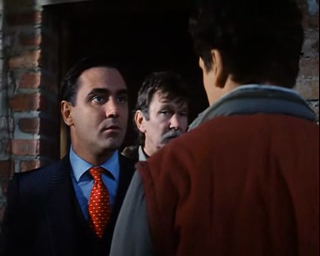face: (81, 75, 128, 148), (152, 98, 188, 151)
mcu: (1, 1, 320, 256)
ots: (110, 1, 320, 256)
person: (1, 55, 137, 256), (121, 72, 189, 168)
